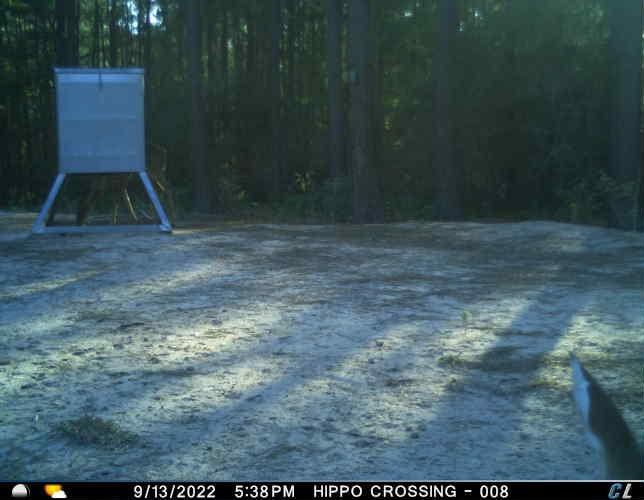Deer: (569, 348, 642, 482), (70, 135, 171, 226)
